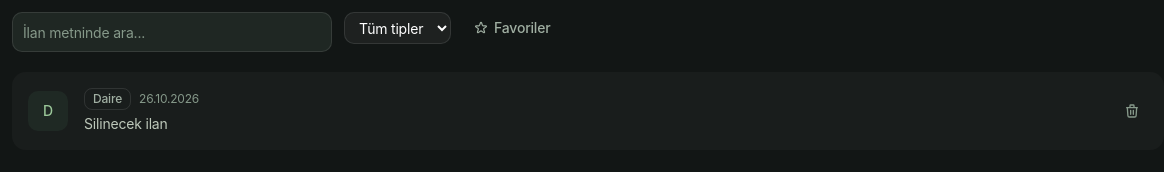
Test: Listing history interactions › removes a deleted listing immediately after confirmation
Click the button named "İlanı sil".
click(1132, 111)  # box x1=1116 y1=95 x2=1148 y2=127
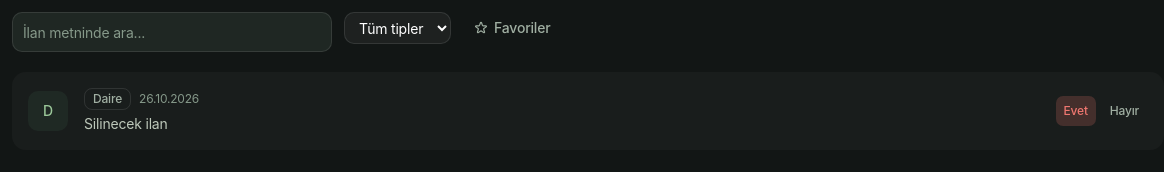
Click the button "Evet".
click(1076, 111)  # box x1=1054 y1=95 x2=1097 y2=127
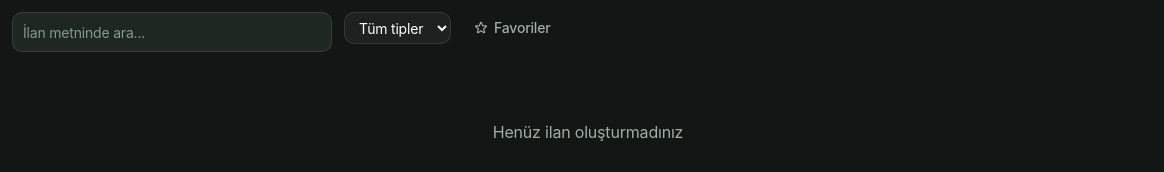
Result: the text "Silinecek ilan" is gone
